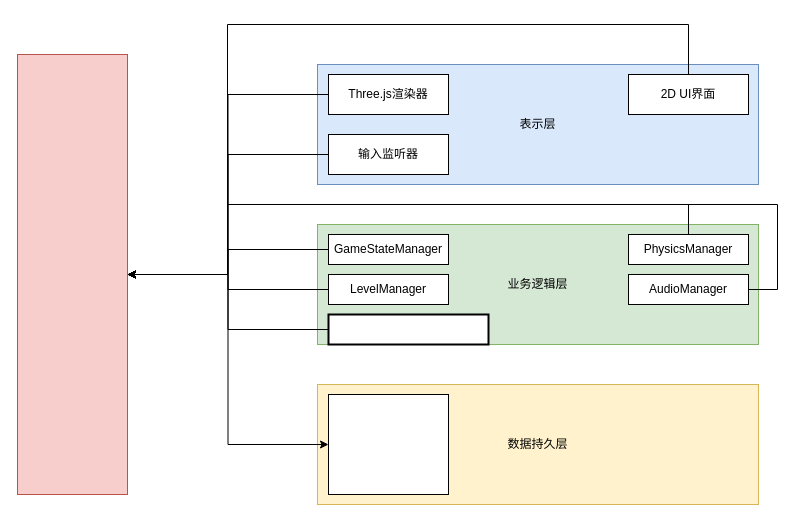
This 803x522 diagram has some shape labels left out. Here are the shapes that lost their labels. From the top down, the centre of each, then its label:
the point at 72,274: EventBus
the point at 408,329: DynamicDifficultyManager
the point at 388,444: LocalStorage 封装
